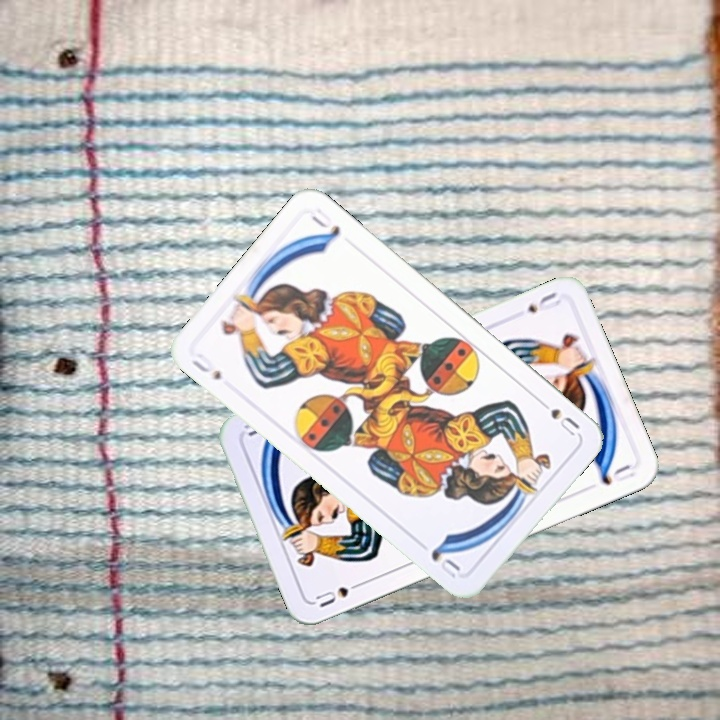SU: (532, 394, 583, 439), (311, 577, 368, 610), (187, 349, 224, 383), (523, 288, 563, 316)
